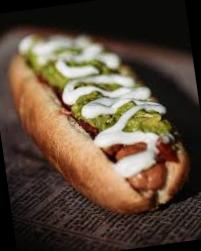Completos: (0, 0, 201, 241)
